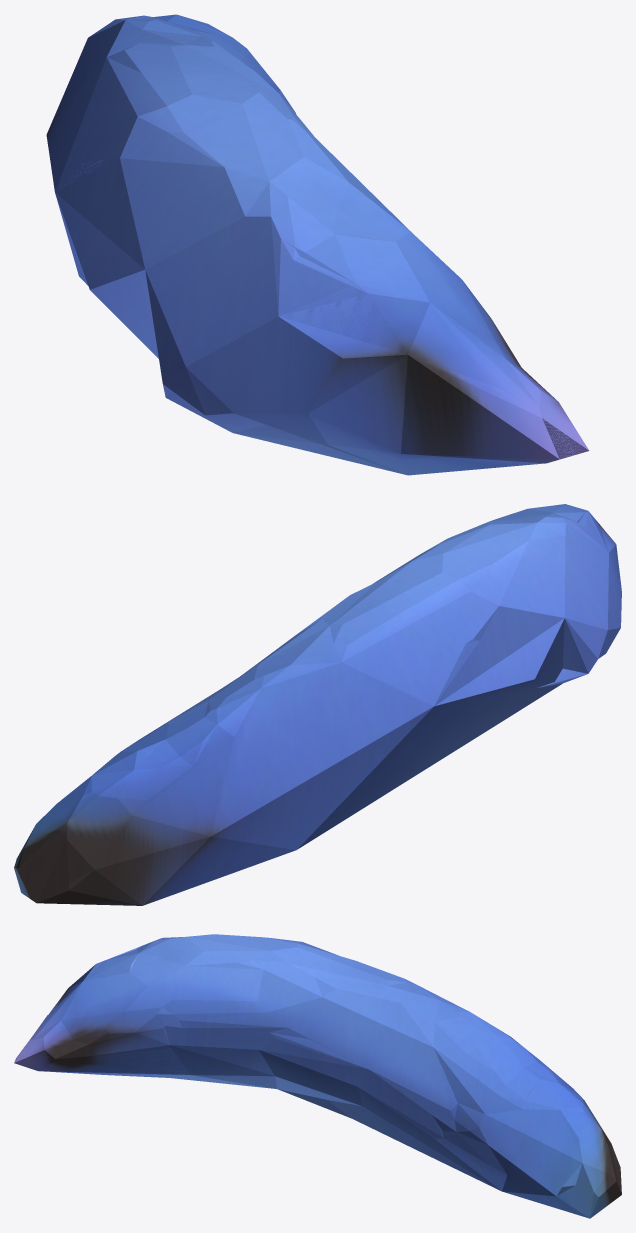
Rendered from banana.obj.
The picture shows the model from 3 angles, top to bottom: view 1: azimuth 30°, elevation 25°; view 2: azimuth 150°, elevation 25°; view 3: azimuth 270°, elevation 25°; orthographic projection. The views are drawn at different scales.
Visible parts, largest first — view 1: Nontextured; view 2: Nontextured; view 3: Nontextured.
Boxes of the visible parts, bbox=[...] form: Nontextured: bbox=[46, 14, 589, 475]; Nontextured: bbox=[14, 504, 621, 905]; Nontextured: bbox=[14, 934, 621, 1218].
Size of the model in its own units: 0.0838 by 0.0599 by 0.1771.
Materials: 1 (1 with a texture image).
